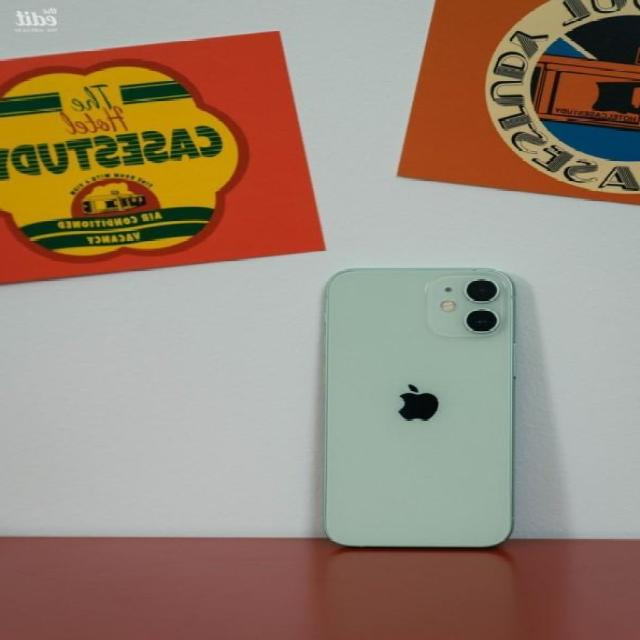mobile: (323, 267, 517, 548)
